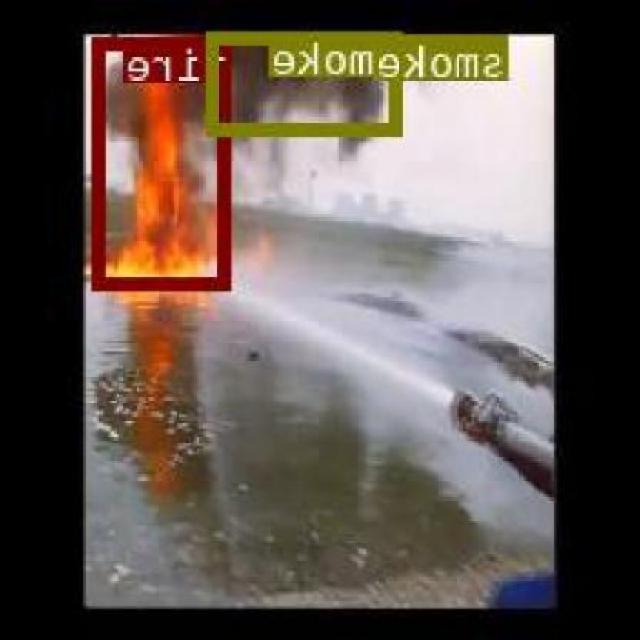Fire: (95, 35, 232, 288)
Smoke: (208, 29, 406, 132), (416, 33, 510, 76)
